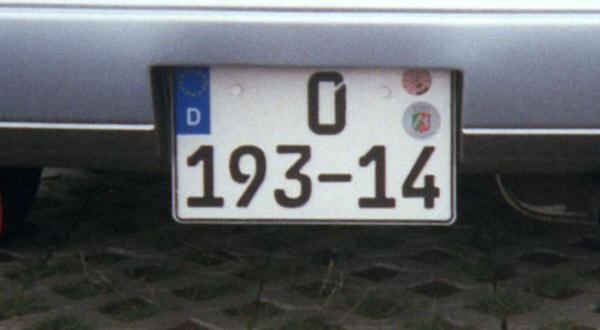license_plate: (172, 68, 455, 225)
